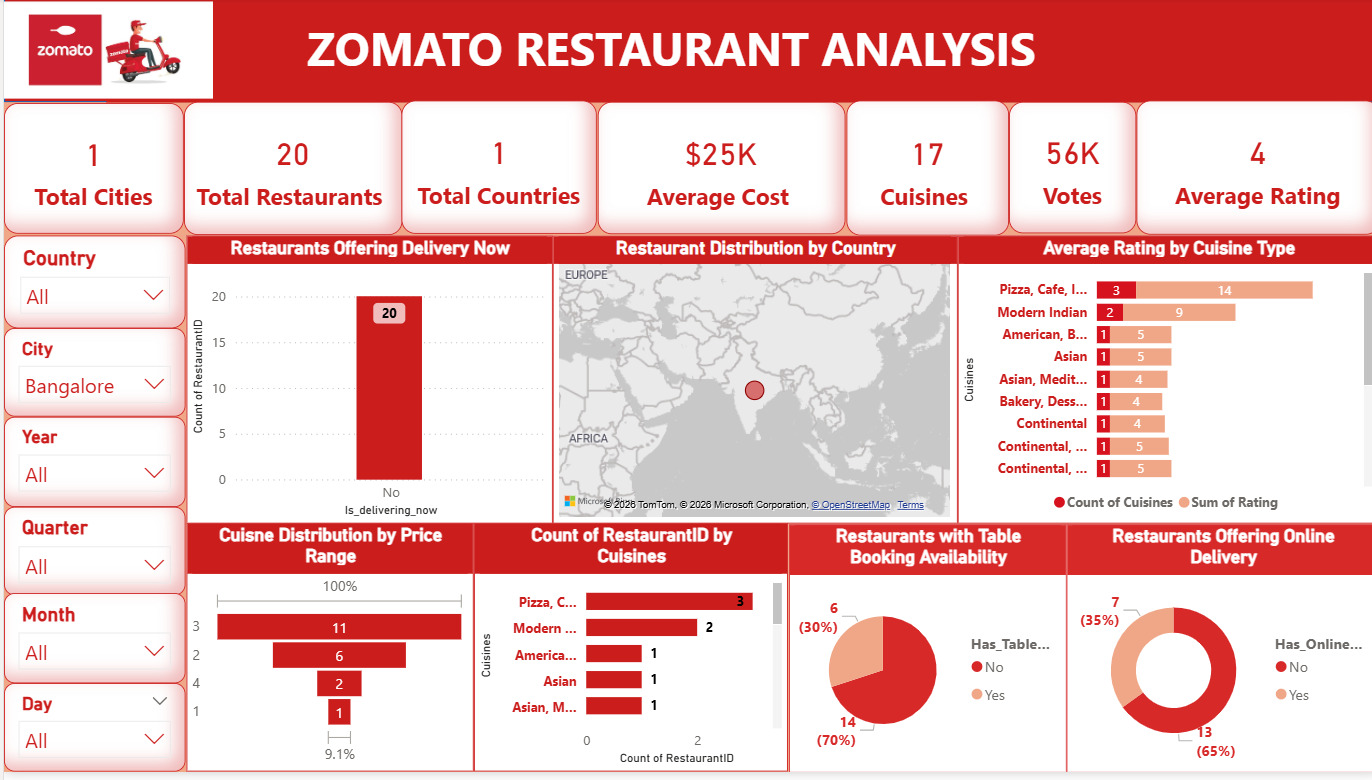

The dashboard page shown, as its layout file describes it:
{"tool":"powerbi","page":{"name":"Dashboard","canvas":[1280,720],"ordinal":0},"visuals":[{"type":"shape","box":[0,0,1280.3,97],"z":0},{"type":"textbox","box":[95.7,11.2,1062.7,85.8],"z":1000},{"type":"card","fields":{"Values":["Count(Main.RestaurantID)"]},"box":[167.2,96.7,202.9,124.1],"z":2000},{"type":"card","fields":{"Values":["Count(Main.City)"]},"box":[0,97.8,167.2,122],"z":3000},{"type":"card","fields":{"Values":["Count(Main.CountryCode)"]},"box":[370.1,95.7,181.9,124.1],"z":4000},{"type":"card","fields":{"Values":["Count(Main.Cuisines)"]},"box":[783.8,95.9,151,125.8],"z":5000},{"type":"slicer","fields":{"Values":["Main.Countryname"]},"box":[0,220.5,169,86.3],"z":6000},{"type":"card","fields":{"Values":["Sum(Main.Average_Cost_for_two)"]},"box":[552.5,97.1,230.1,123.4],"z":7000},{"type":"slicer","fields":{"Values":["Main.City"]},"box":[0,307.3,168.8,82.2],"z":8000},{"type":"slicer","fields":{"Values":["Main.Year Opening"]},"box":[0,389.5,168.8,83.7],"z":9000},{"type":"slicer","fields":{"Values":["Main.Quarter"]},"box":[0,473.2,168.8,82.2],"z":10000},{"type":"slicer","fields":{"Values":["Main.MonthName"]},"box":[0,554,168.8,83.7],"z":11000},{"type":"slicer","fields":{"Values":["Main.Day Opening"]},"box":[0,637.7,168.8,82.2],"z":12000},{"type":"lineStackedColumnComboChart","title":"Restaurants Offering Delivery Now","fields":{"Category":["Main.Is_delivering_now"],"Y":["CountNonNull(Main.RestaurantID)"]},"box":[170.3,220.8,340.7,268.1],"z":13000},{"type":"barChart","title":"Average Rating by Cuisine Type","fields":{"Category":["Main.Cuisines"],"Y":["CountNonNull(Main.Cuisines)","Sum(Main.Rating)"]},"box":[887.4,220.8,392.2,268.1],"z":14000},{"type":"map","title":"Restaurant Distribution by Country","fields":{"Category":["Country.Countryname"],"Size":["CountNonNull(Main.RestaurantName)"]},"box":[511,220.8,376.4,268.1],"z":15000},{"type":"clusteredBarChart","fields":{"Category":["Main.Cuisines"],"Y":["CountNonNull(Main.RestaurantID)"]},"box":[437.4,488.9,292.3,231.3],"z":16000},{"type":"funnel","title":"Cuisne Distribution by Price Range","fields":{"Category":["Main.Price_range"],"Y":["CountNonNull(Main.Cuisines)"]},"box":[170.3,488.9,267.1,231.3],"z":17000},{"type":"pieChart","title":"Restaurants with Table Booking Availability","fields":{"Category":["Main.Has_Table_booking"],"Y":["CountNonNull(Main.RestaurantID)"]},"box":[730,489.1,258.3,230.8],"z":18000},{"type":"card","fields":{"Values":["Sum(Main.Votes)"]},"box":[934.8,97.1,118.7,122.2],"z":19000},{"type":"image","box":[0,0,194.2,97.1],"z":20000},{"type":"card","fields":{"Values":["Avg(Main.Rating)"]},"box":[1053.5,95.9,226.5,124.6],"z":21000},{"type":"donutChart","title":"Restaurants Offering Online Delivery","fields":{"Category":["Main.Has_Online_delivery"],"Y":["CountNonNull(Main.RestaurantID)"]},"box":[988,489,291,231],"z":22000}]}

Visuals, with their boxes in screenshot pixels (x1, y1, x2, y2), scaled from the page's 1280x720 canvas onto the 1372x780 screenshot:
shape: [0,0,1371,105]
textbox: [103,12,1242,105]
card - Count(Main.RestaurantID): [179,105,397,239]
card - Count(Main.City): [0,106,179,238]
card - Count(Main.CountryCode): [397,104,592,238]
card - Count(Main.Cuisines): [840,104,1002,240]
slicer - Main.Countryname: [0,239,181,332]
card - Sum(Main.Average_Cost_for_two): [592,105,839,239]
slicer - Main.City: [0,333,181,422]
slicer - Main.Year Opening: [0,422,181,513]
slicer - Main.Quarter: [0,513,181,602]
slicer - Main.MonthName: [0,600,181,691]
slicer - Main.Day Opening: [0,691,181,779]
"Restaurants Offering Delivery Now" lineStackedColumnComboChart: [183,239,548,530]
"Average Rating by Cuisine Type" barChart: [951,239,1371,530]
"Restaurant Distribution by Country" map: [548,239,951,530]
clusteredBarChart - Main.Cuisines x CountNonNull(Main.RestaurantID): [469,530,782,779]
"Cuisne Distribution by Price Range" funnel: [183,530,469,779]
"Restaurants with Table Booking Availability" pieChart: [782,530,1059,779]
card - Sum(Main.Votes): [1002,105,1129,238]
image: [0,0,208,105]
card - Avg(Main.Rating): [1129,104,1371,239]
"Restaurants Offering Online Delivery" donutChart: [1059,530,1371,779]
